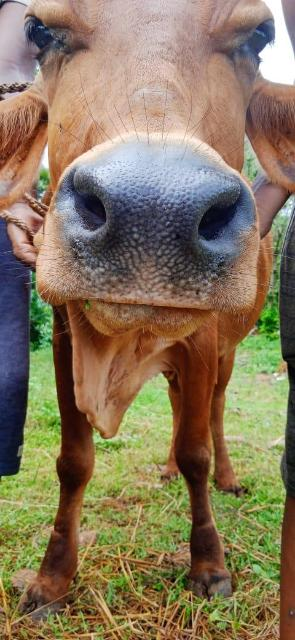Muzzle: (78, 168, 216, 298)
